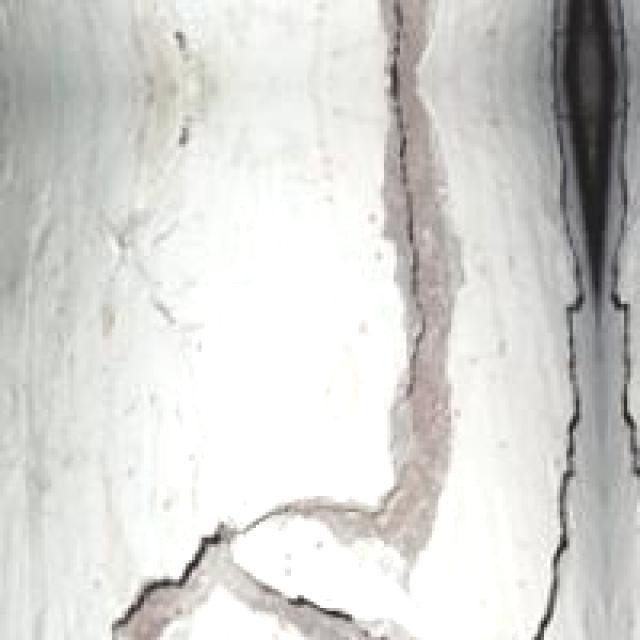crack: (504, 0, 640, 640), (348, 0, 458, 396), (88, 518, 412, 640)
